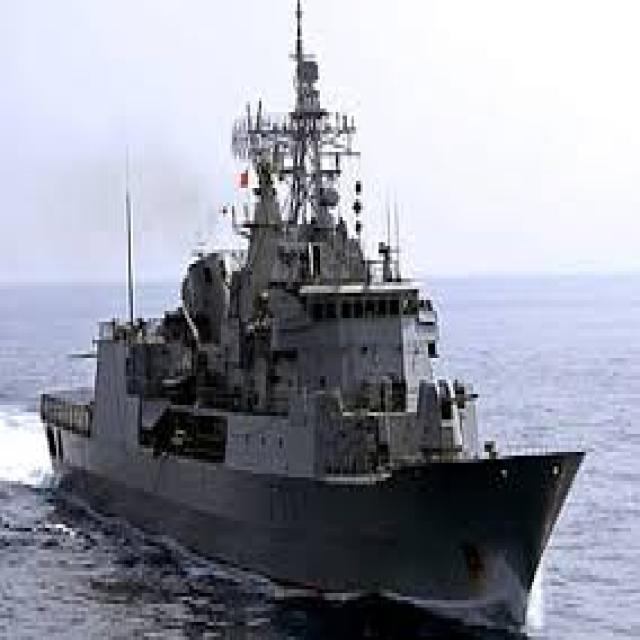navalvessels: (56, 57, 586, 605)
